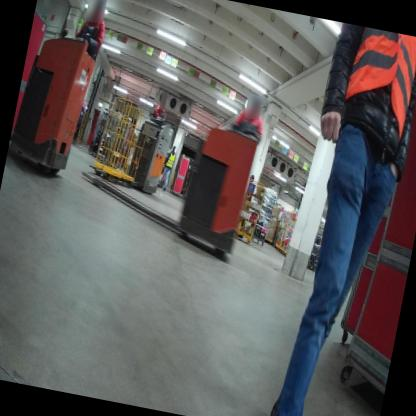pallet_truck: (63, 97, 267, 278), (4, 23, 104, 184), (77, 96, 178, 198)
